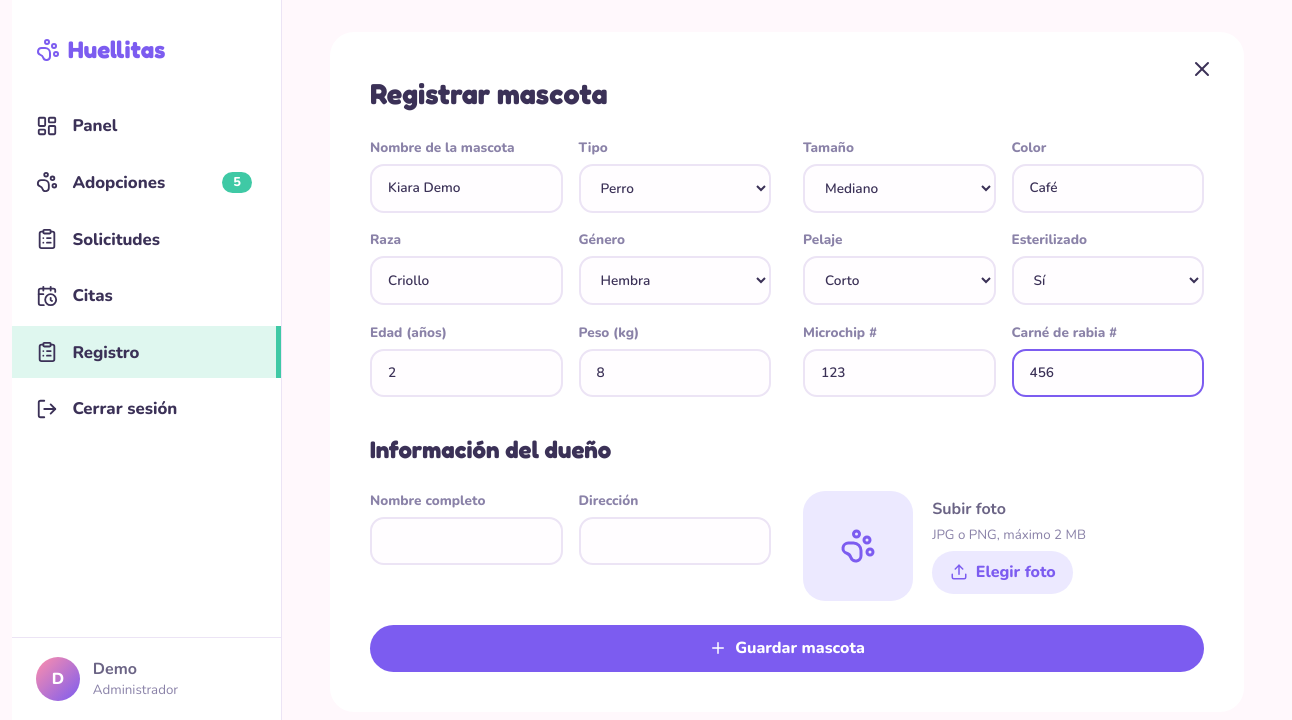
Catálogo de adopciones › una mascota desactivada desaparece del catálogo
This screenshot has width=1292, height=720.
Earlier steps of the test are not shown.
Type "Ana Prueba" into the field labelled "Nombre completo".
click(466, 541); type("Ana Prueba")  # box [370,517,562,565]
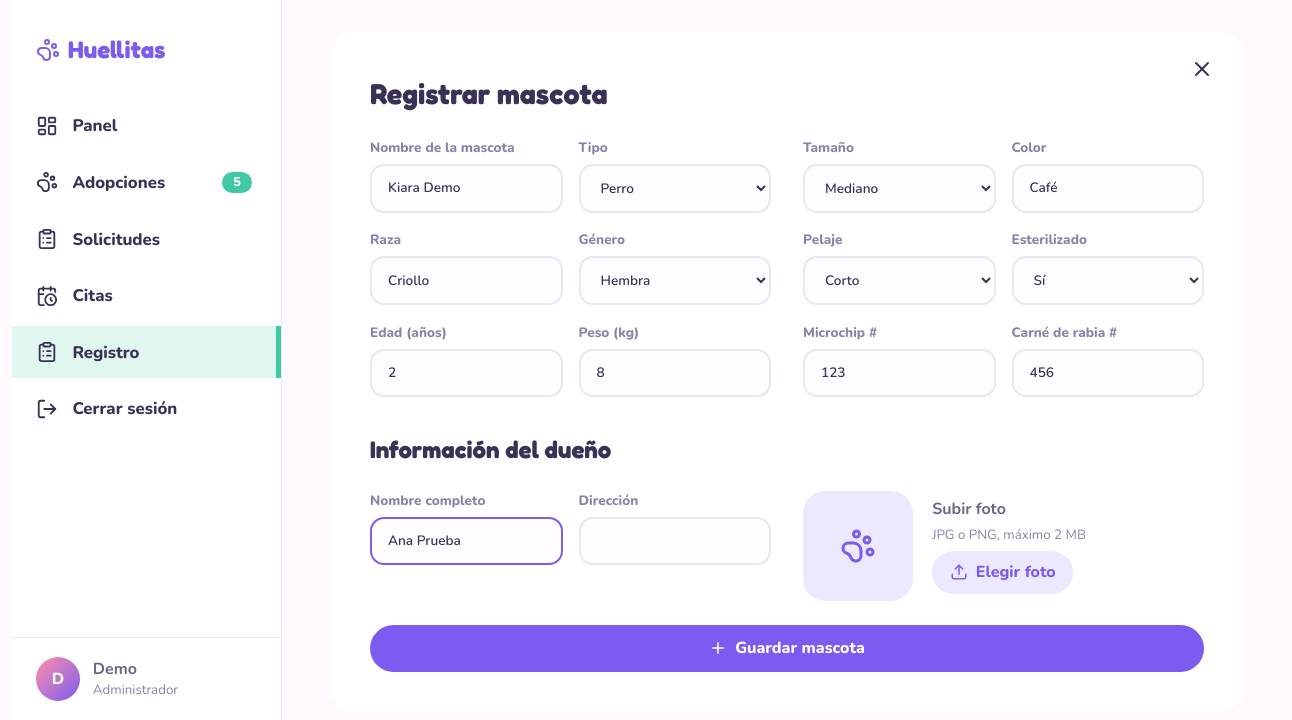
Type "Calle 1 # 2-3" into the field labelled "Dirección".
click(675, 541); type("Calle 1 # 2-3")  # box [578,517,771,565]
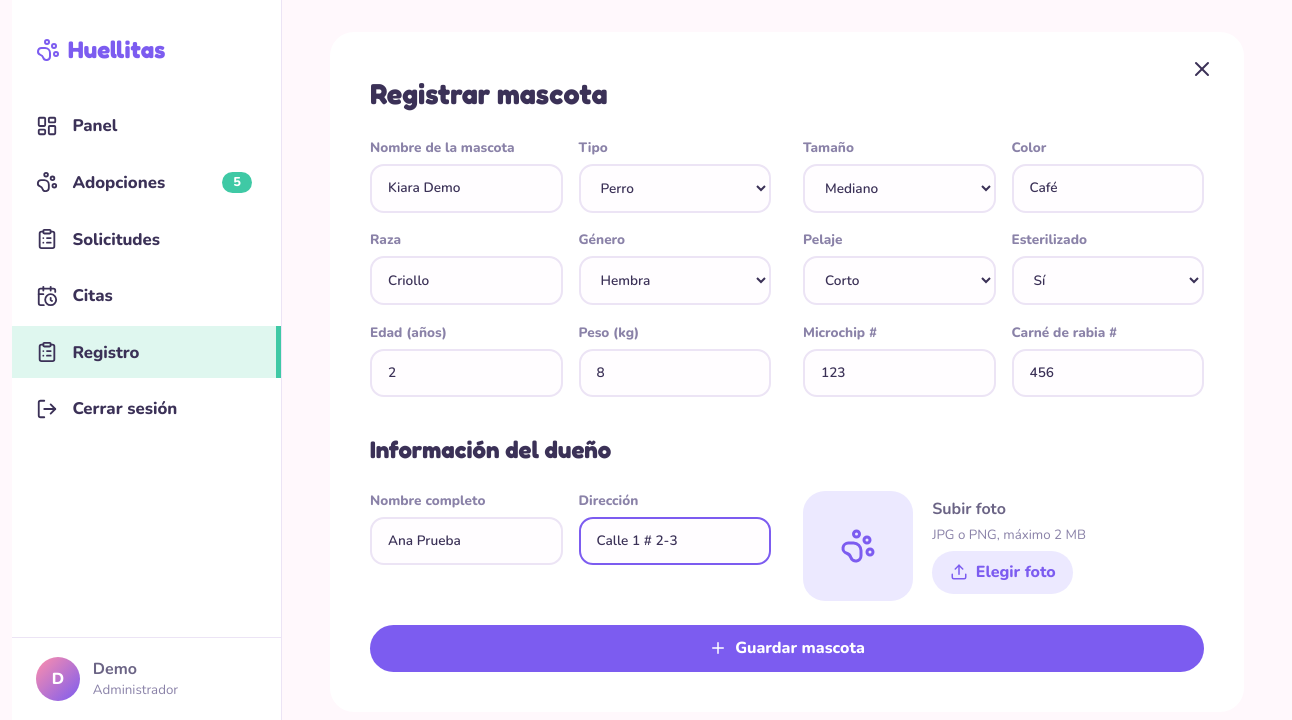
Click the button "Guardar mascota".
click(787, 648)  # box [370,625,1204,672]
(page scrolled)
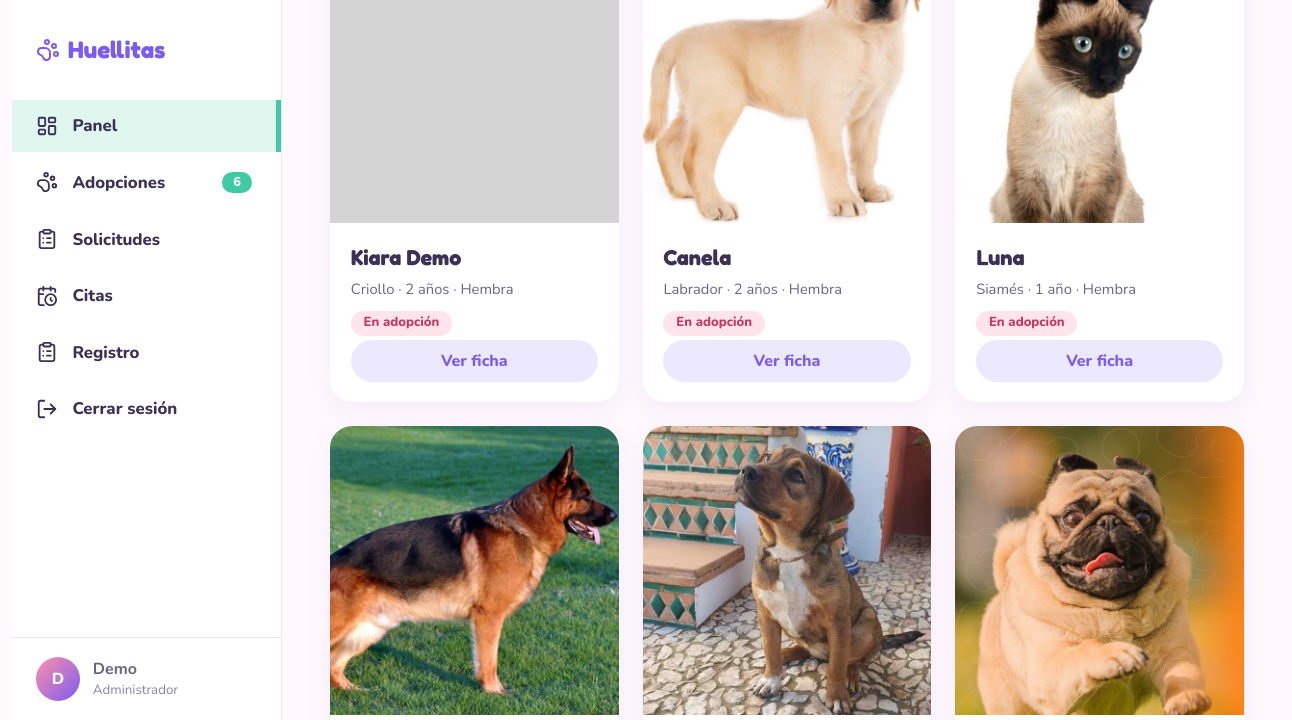
Click the button "Ver ficha" below "Criollo".
click(474, 361)  # box [351,340,598,382]
(page scrolled)
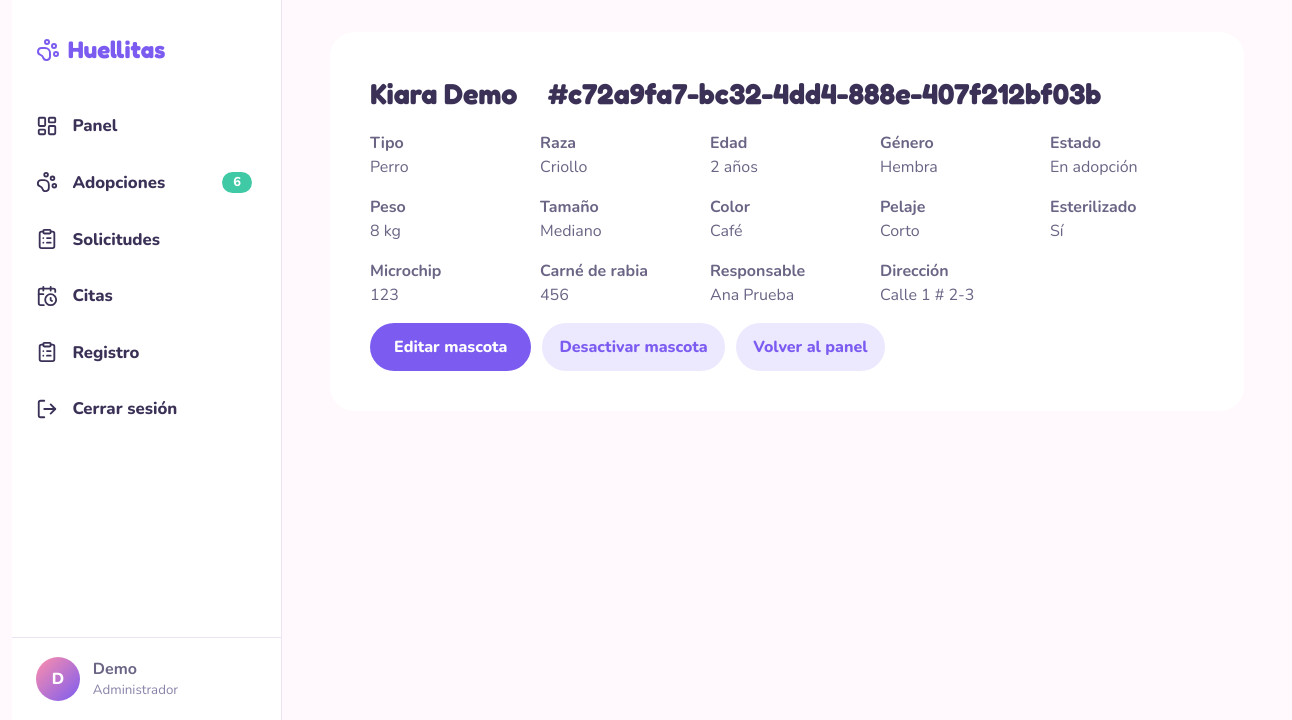
Click the button "Desactivar mascota".
click(634, 347)  # box [542,323,725,371]
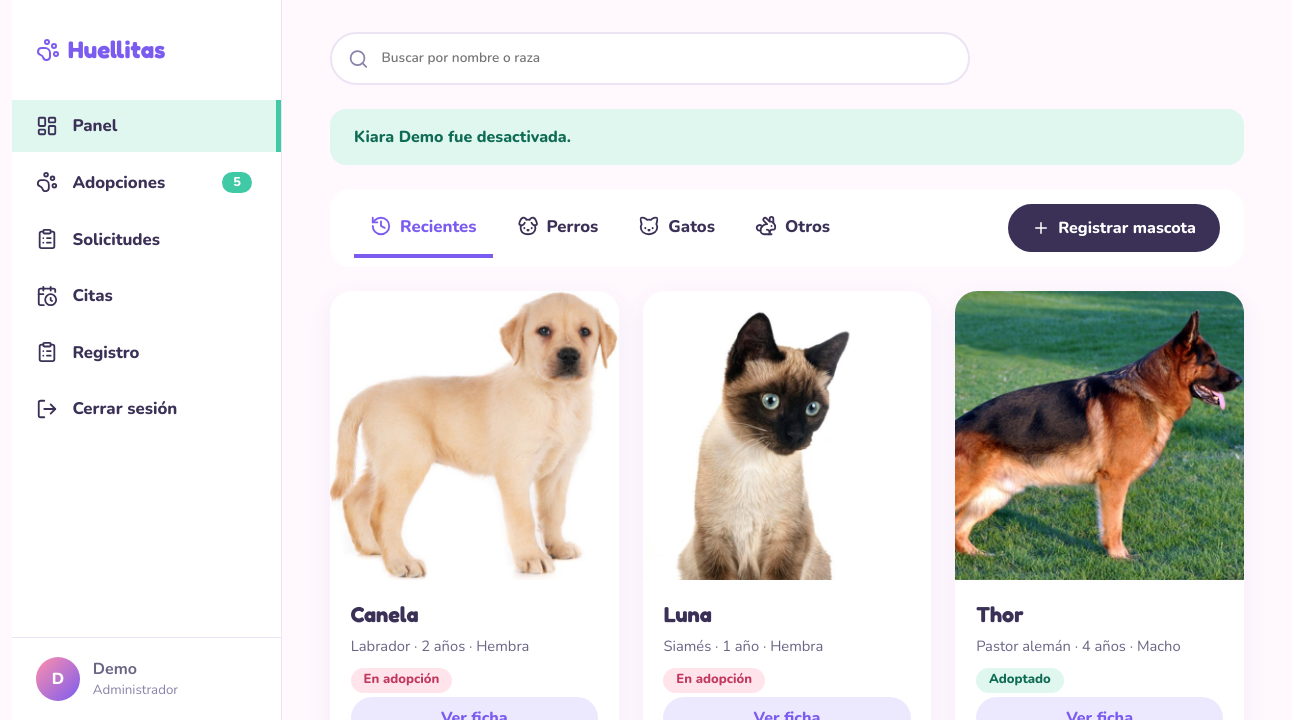
Click the button "Adopciones 5".
click(146, 182)  # box [12,157,281,208]
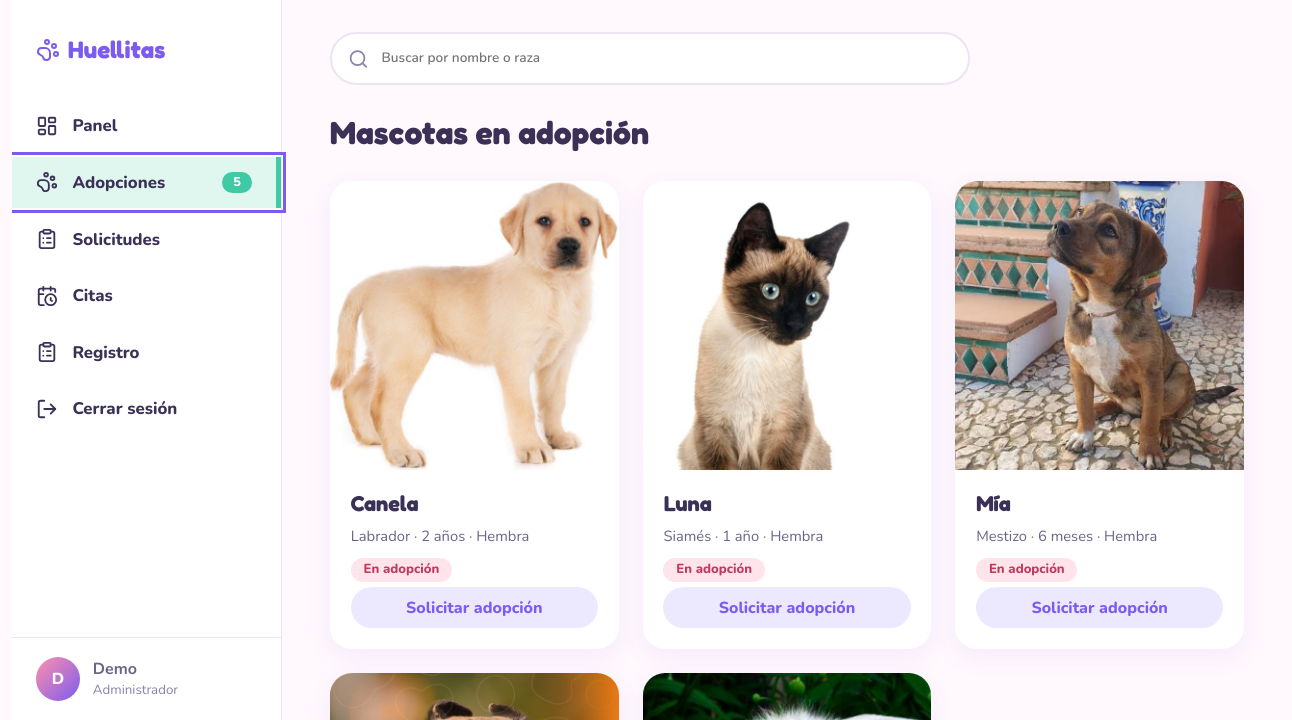
Now the message "Kiara Demo" is gone
